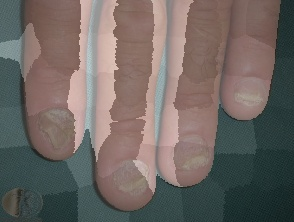Nail_psoriasis: (26, 95, 89, 159), (103, 149, 159, 204), (164, 135, 215, 179), (227, 81, 270, 113)
